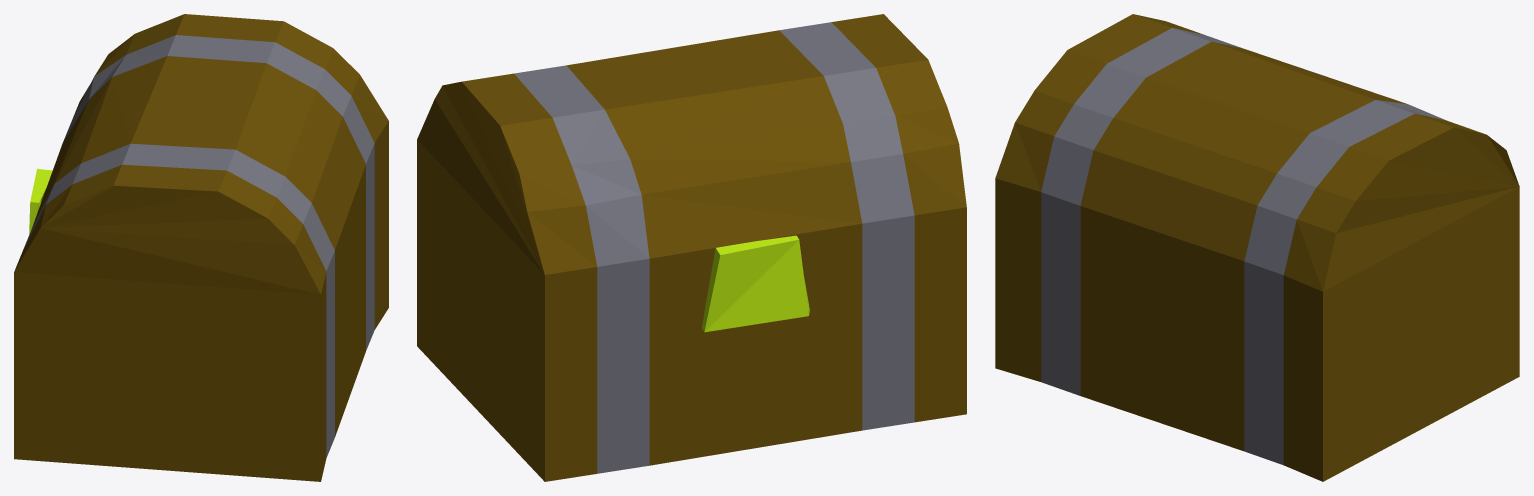
The model's file is inv_casket_9.obj.
The picture shows the model from 3 angles, left to right: view 1: azimuth 30°, elevation 25°; view 2: azimuth 150°, elevation 25°; view 3: azimuth 270°, elevation 25°; orthographic projection. The views are drawn at different scales.
Bounding box in the file's own units: 0.6094 × 0.375 × 0.625.
